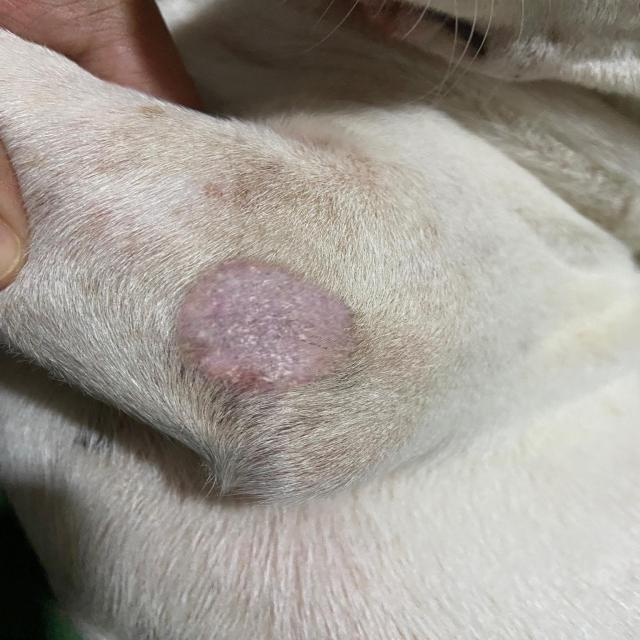ringworm: (173, 241, 408, 422)
